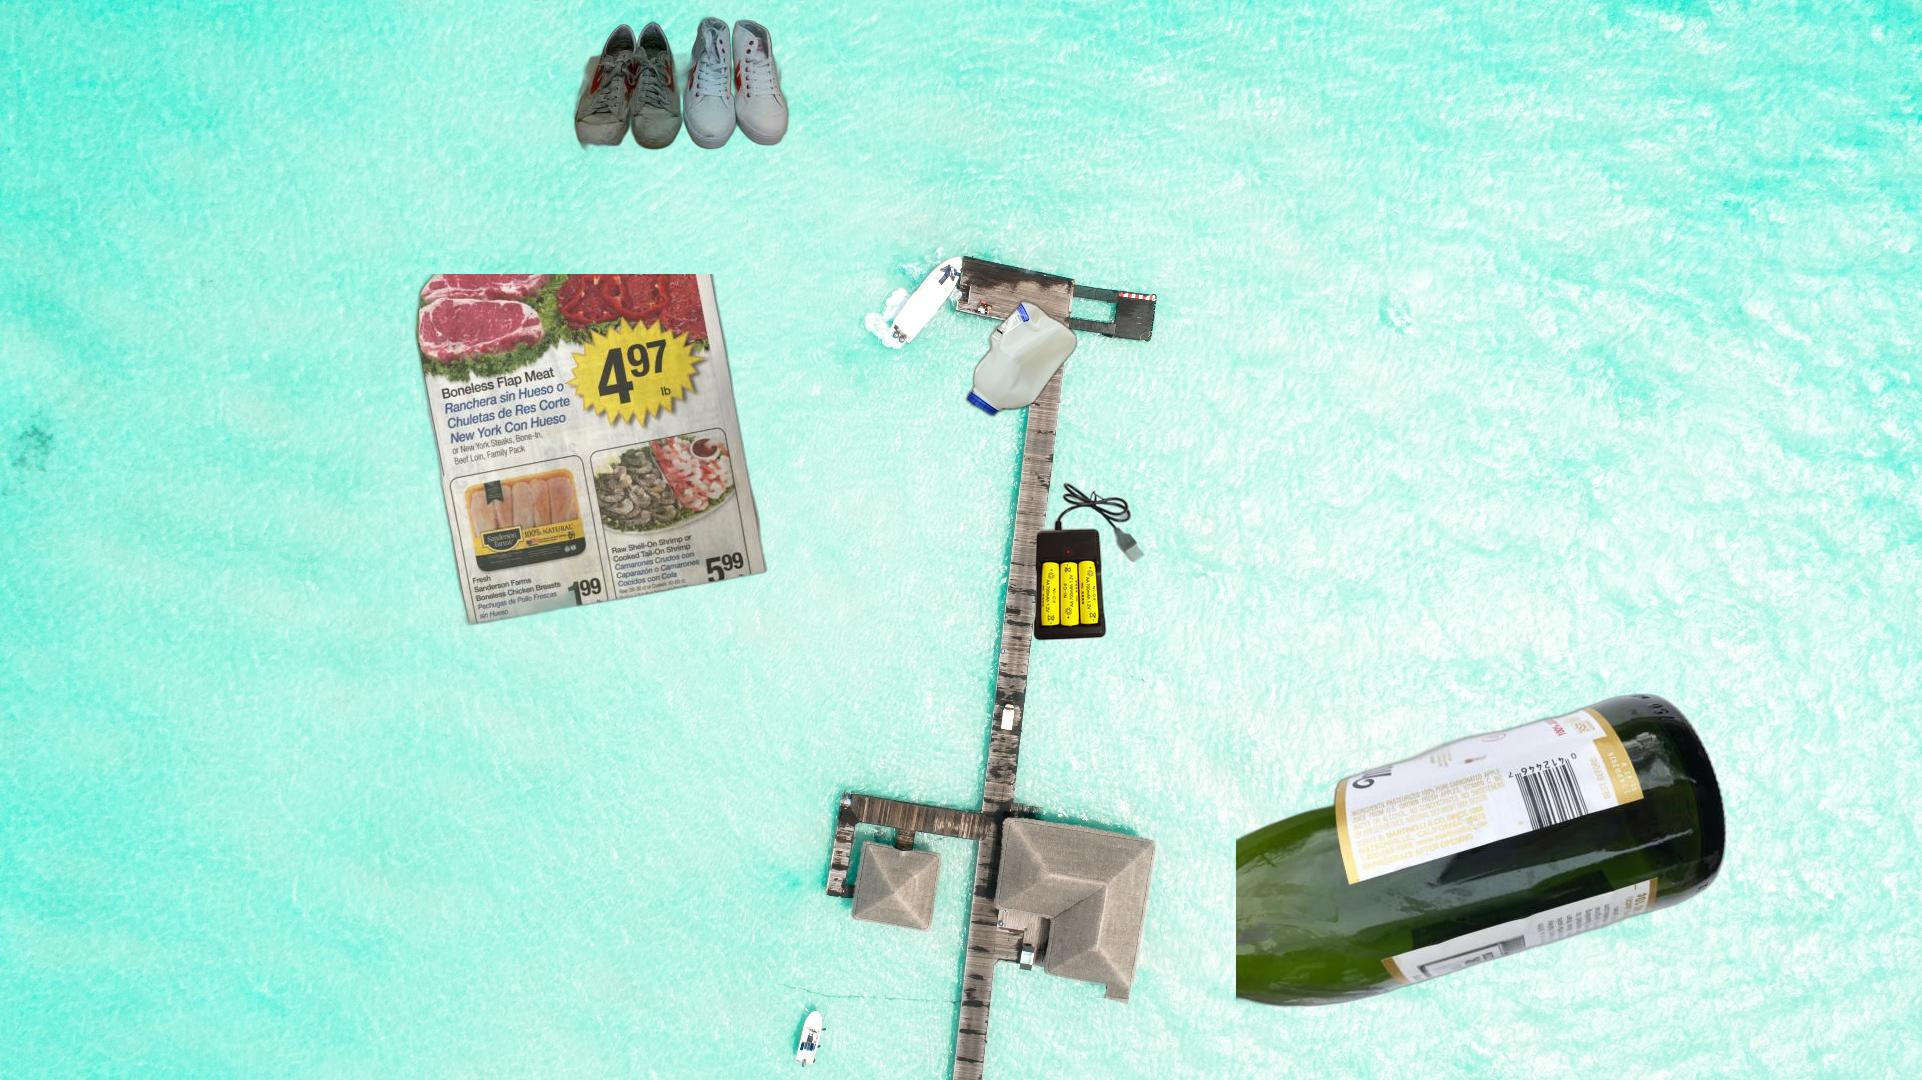battery: (1031, 481, 1147, 643)
glass: (1236, 691, 1731, 1009)
paper: (370, 275, 771, 642)
plastic-bottles: (962, 294, 1081, 422)
shoes: (564, 15, 791, 164)
